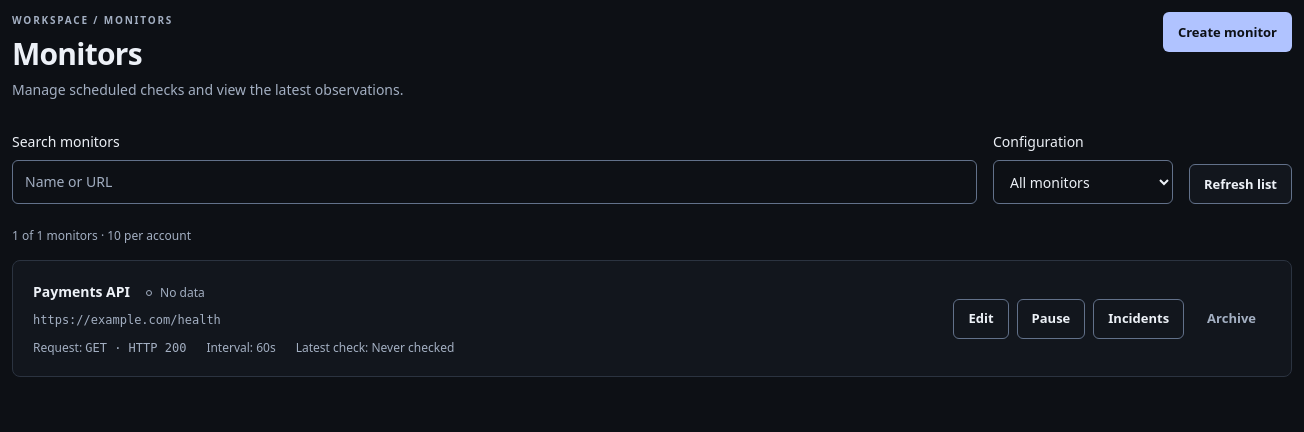
Test case: retains the saved state when pause fails and shows a recoverable error
Click the button "Pause" at (1051, 319), box [1017,299,1085,339]
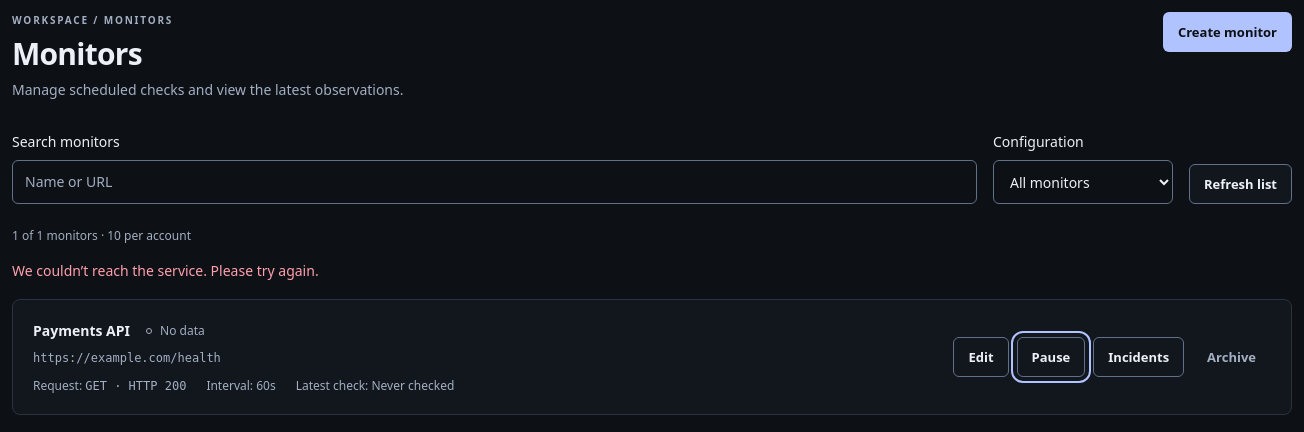
Expected: the button "Pause" is enabled, [1017,337,1085,377]
Expected: the message "We couldn’t reach the service. Please try again." is shown, [12,261,319,280]
